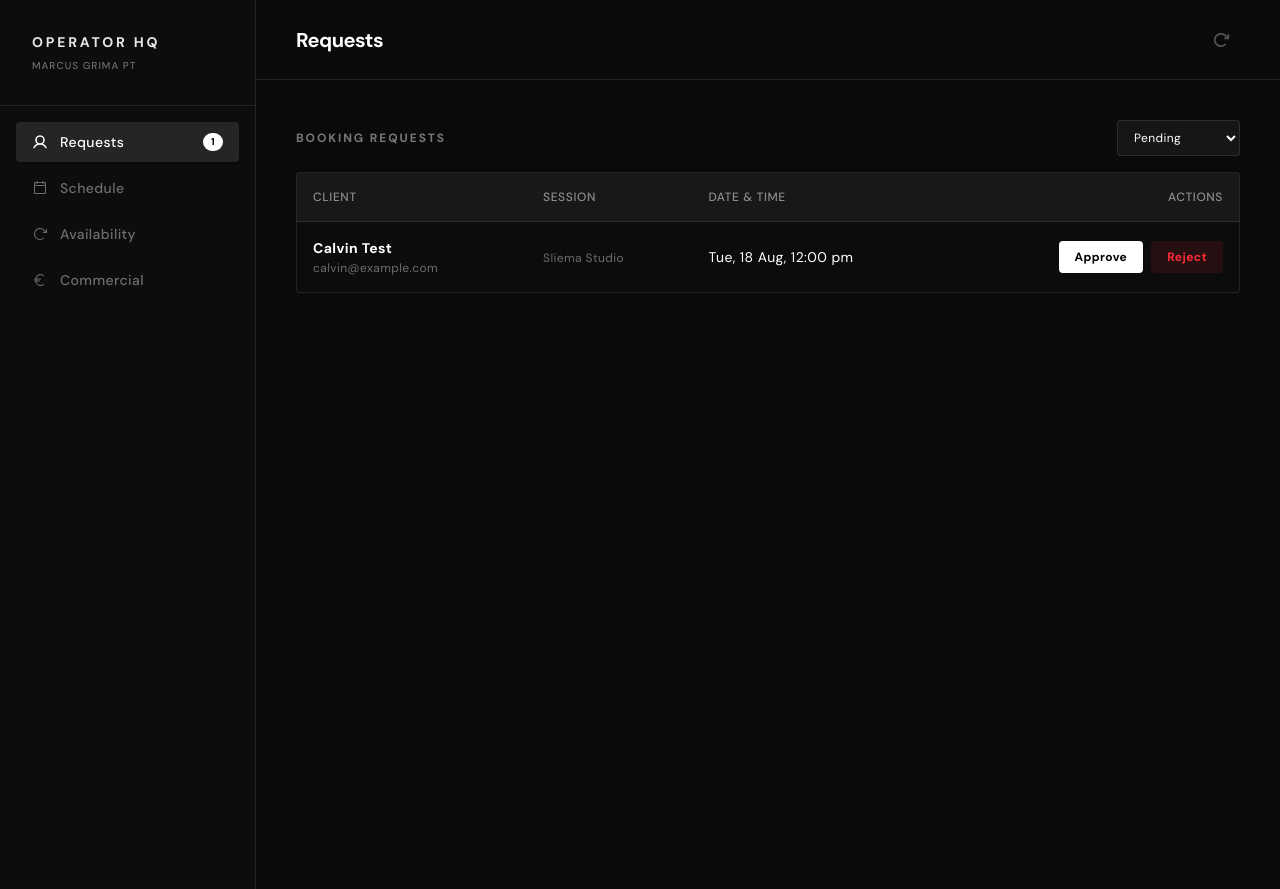
MarcusSessionsHQ weekly schedule › renders every weekday group and lets Marcus choose a week from the visible date range
Step 1. Click the button "Schedule" → (128, 188), box [16,168,239,208]
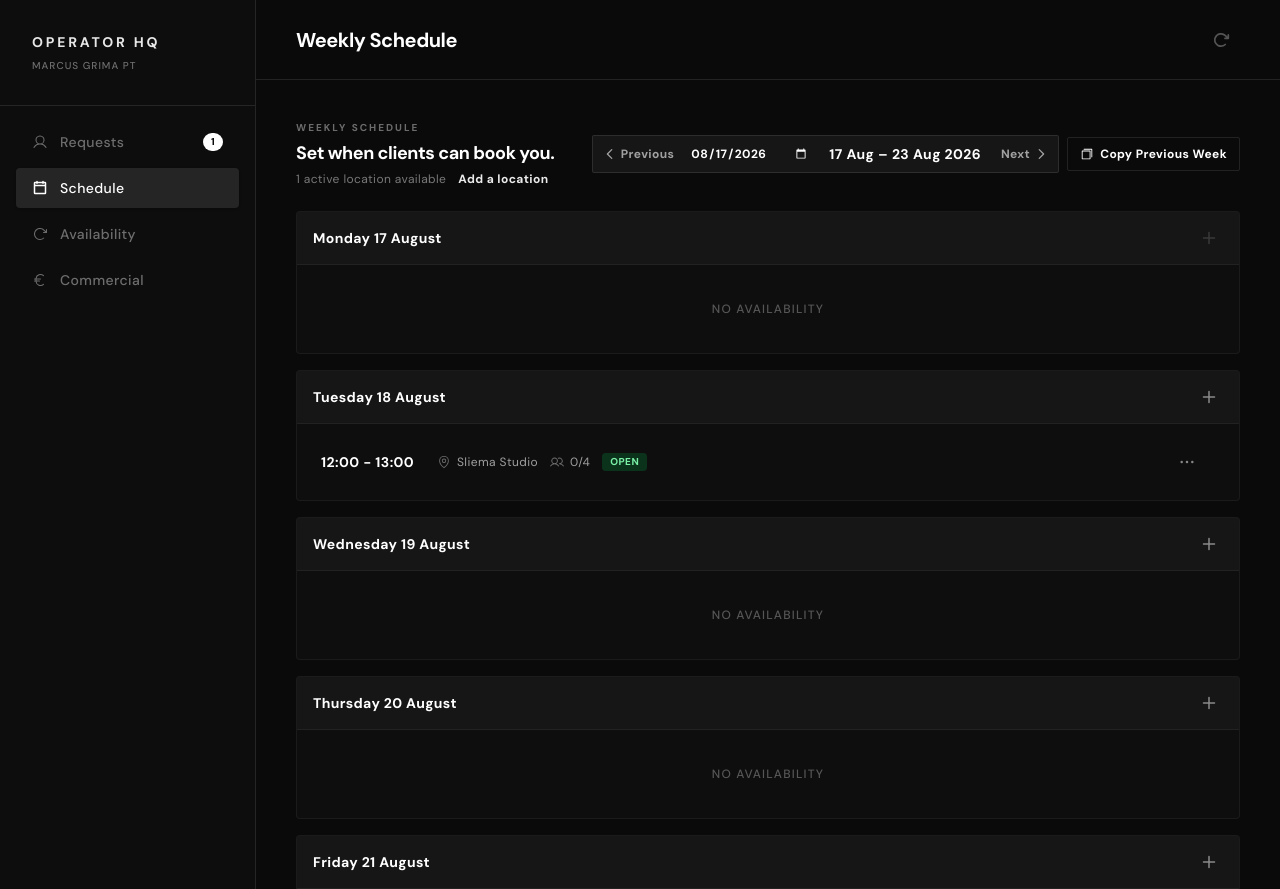
Check: the element with test id "day-section-2026-08-18" is shown, box [296,370,1240,501]
Check: the text with test id "text-no-availability-2026-08-17" reads "No availability", box [712,301,824,317]
Check: the text with test id "text-week-range" reads "17 Aug – 23 Aug 2026", box [829,144,981,162]
Step 2. Type "2026-08-27" into the date field named "Week starting" → (750, 154), box [682,140,817,168]
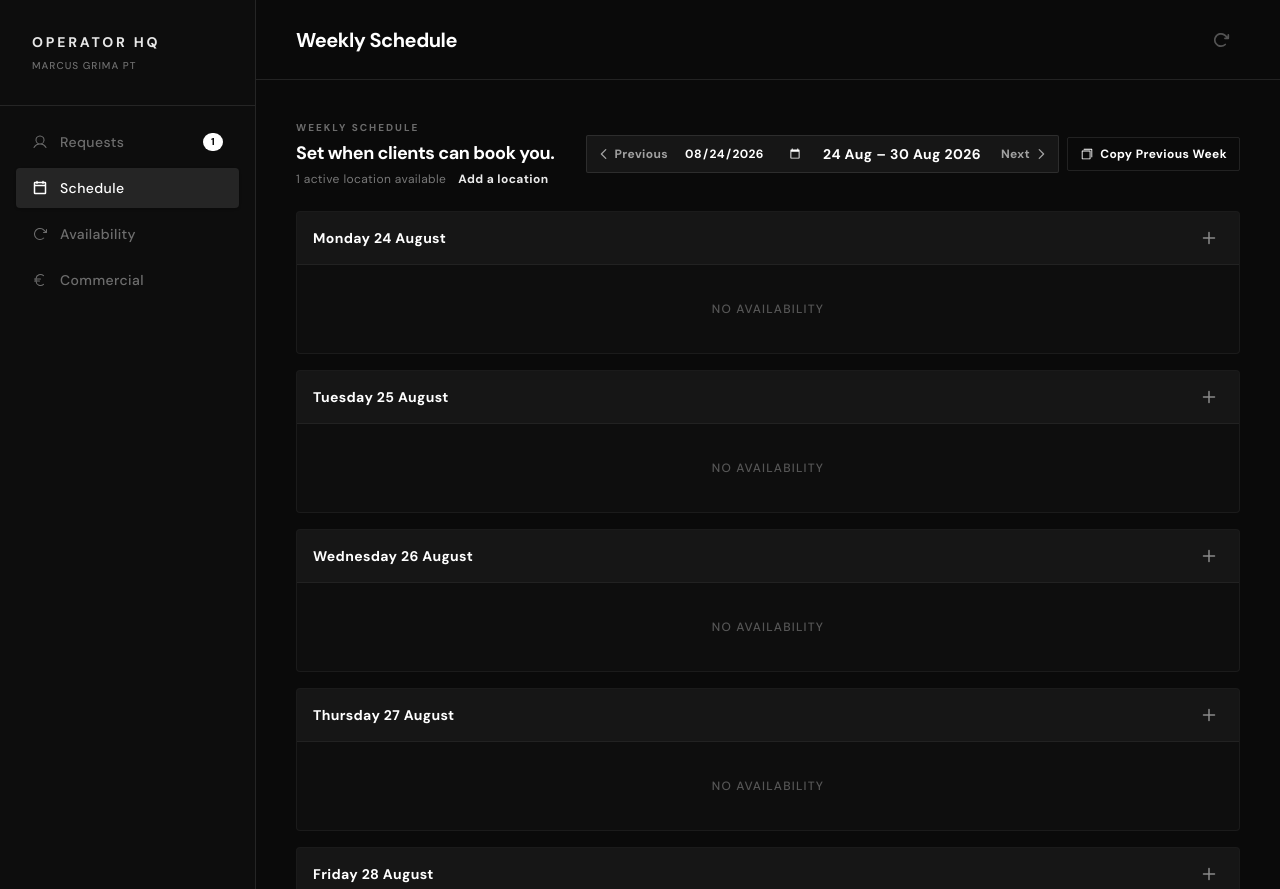
Check: the text with test id "text-week-range" reads "24 Aug – 30 Aug 2026", box [823,144,981,162]
Check: the element with test id "day-section-2026-08-24" is shown, box [296,211,1240,354]
Step 3. Click the button with test id "button-next-week" → (1024, 154), box [993,140,1056,168]
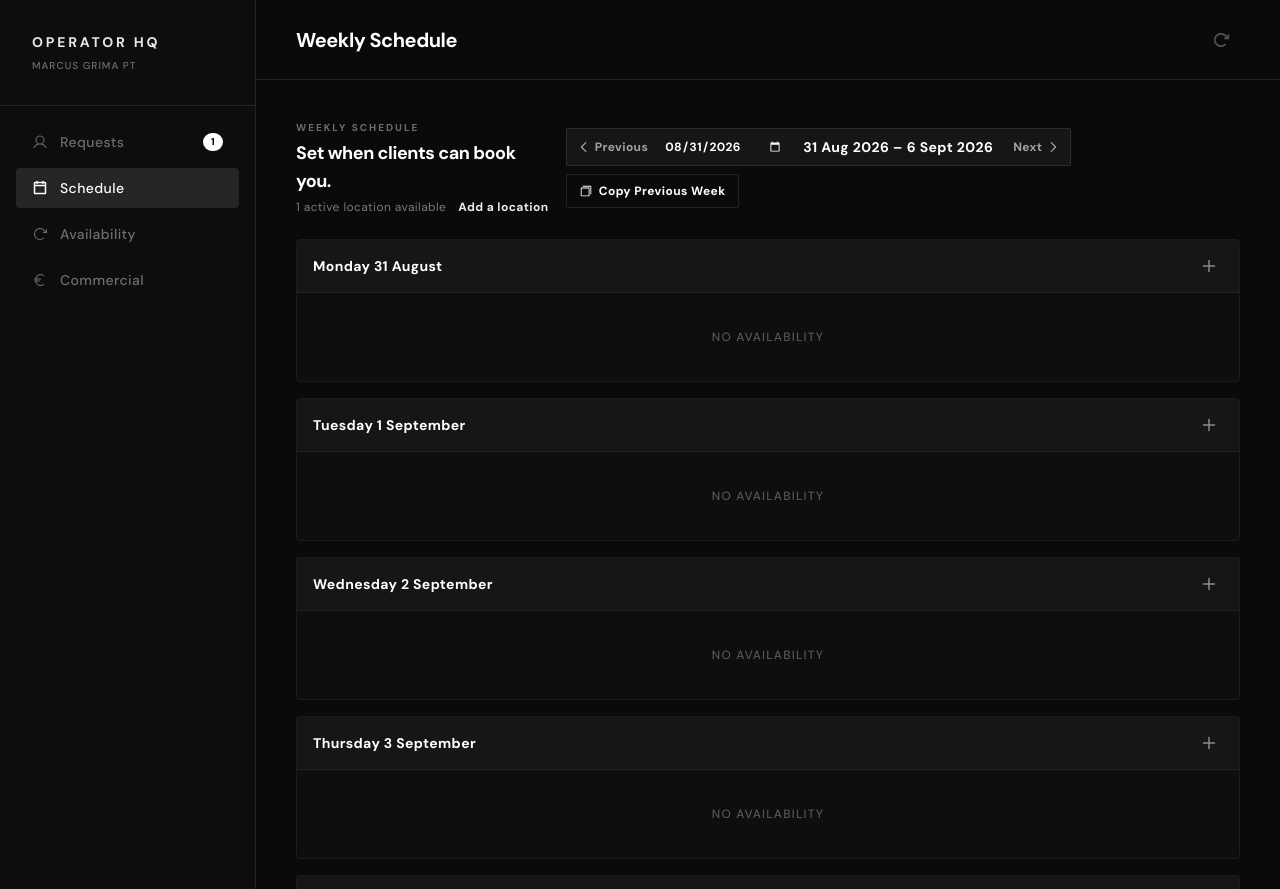
Check: the text with test id "text-week-range" reads "31 Aug 2026 – 6 Sept 2026", box [803,138,993,156]
Step 4. Click the button with test id "button-previous-week" → (612, 146), box [569,132,656,160]
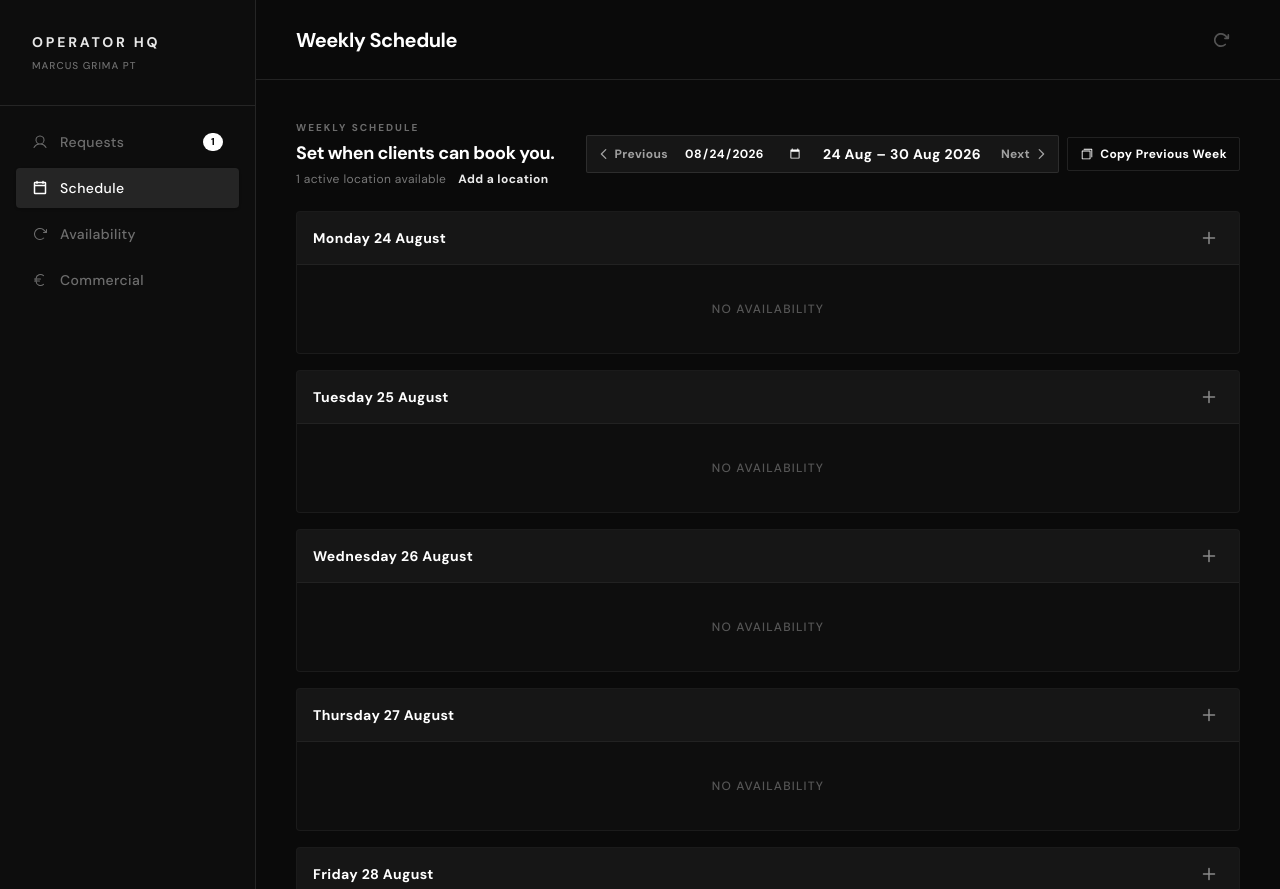
Check: the text with test id "text-week-range" reads "24 Aug – 30 Aug 2026", box [823,144,981,162]
